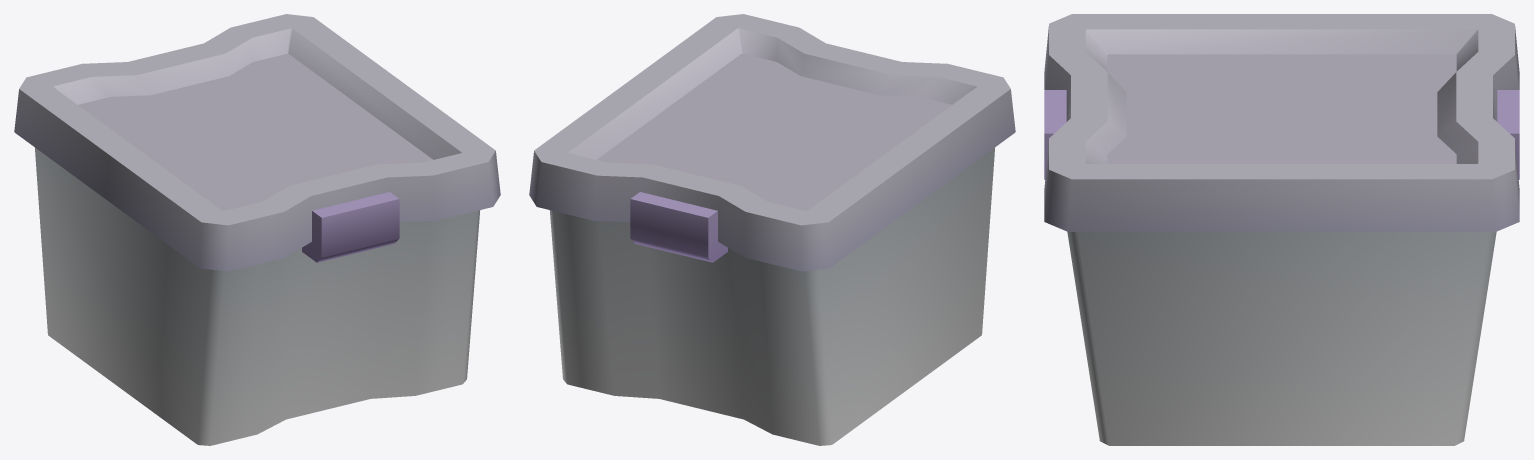
Rendered from storage-plastic-box.glb.
3 renders of one model, left to right at view 1: azimuth 30°, elevation 25°; view 2: azimuth 150°, elevation 25°; view 3: azimuth 270°, elevation 25°, orthographic. The views are drawn at different scales.
Parts seen in each view (by area): view 1: storage-plastic-box; view 2: storage-plastic-box; view 3: storage-plastic-box.
Boxes of the visible parts, x1,y1,x2,y2 form: storage-plastic-box: (14, 14, 500, 445); storage-plastic-box: (529, 14, 1015, 445); storage-plastic-box: (1044, 14, 1519, 445).
Bounding box in the file's own units: 0.4109 × 0.3105 × 0.4888.
